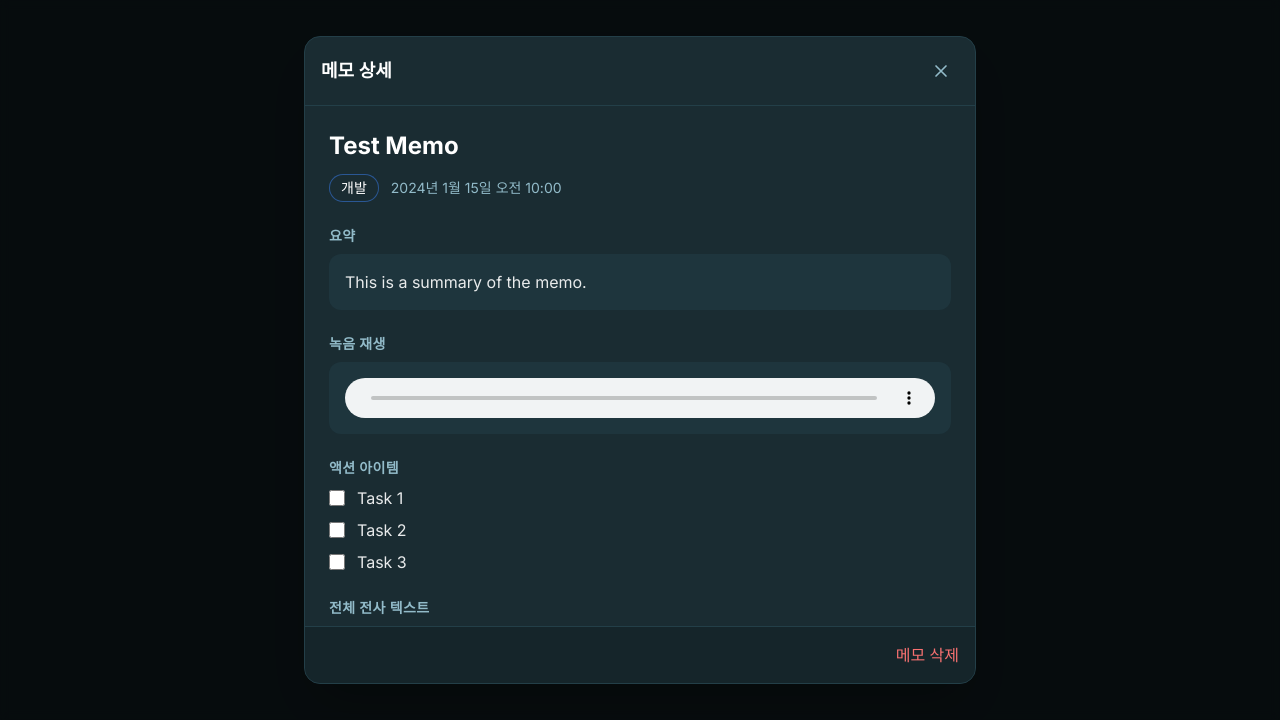
Test case: MemoDetailModal › deletion › hides confirmation when cancel is clicked
expect the heading "Test Memo" is shown: met, box [329, 131, 459, 160]
Click the button "메모 삭제": (927, 655) [896, 643, 959, 667]
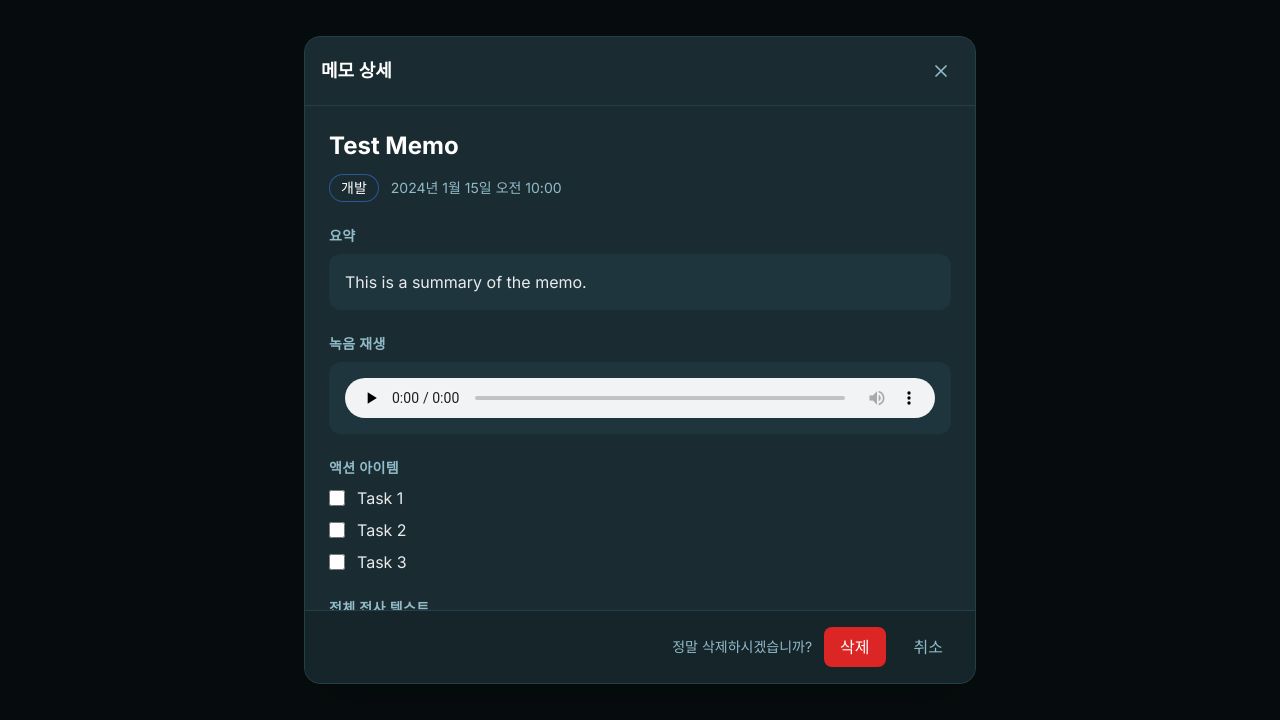
Click the button "취소": (928, 647) [898, 627, 959, 667]
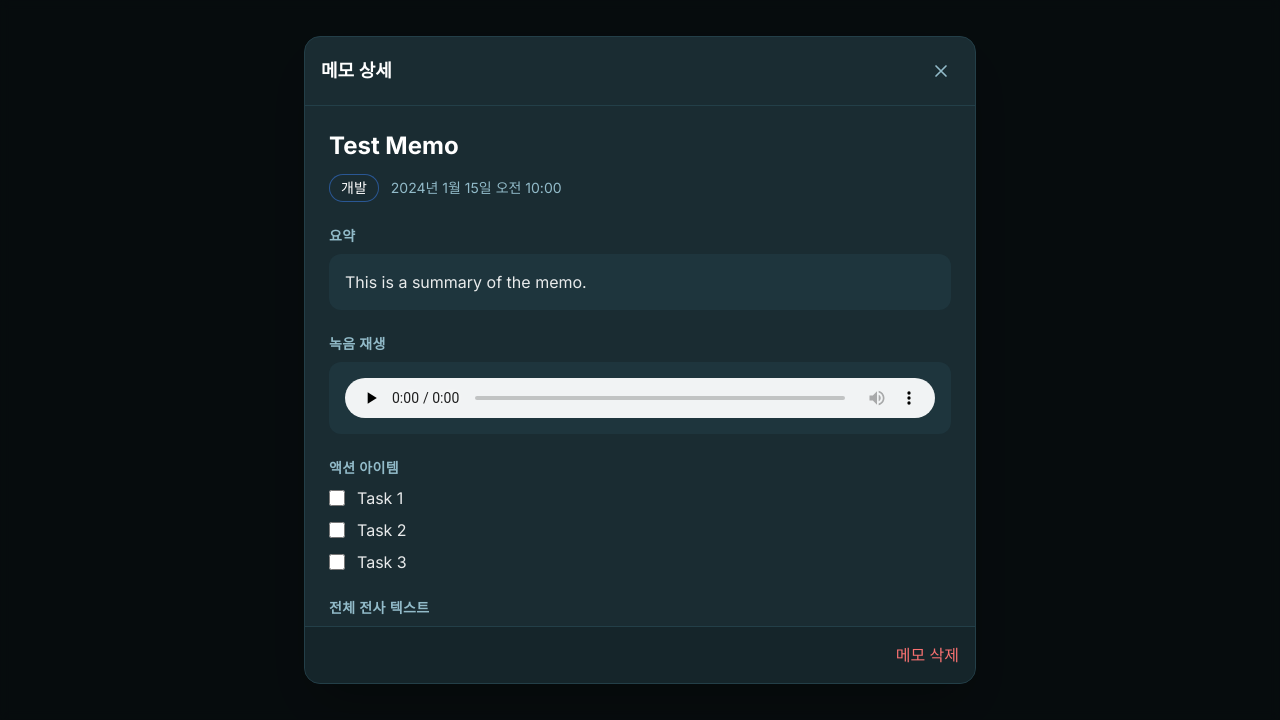
expect the text "정말 삭제하시겠습니까?" is gone: met
